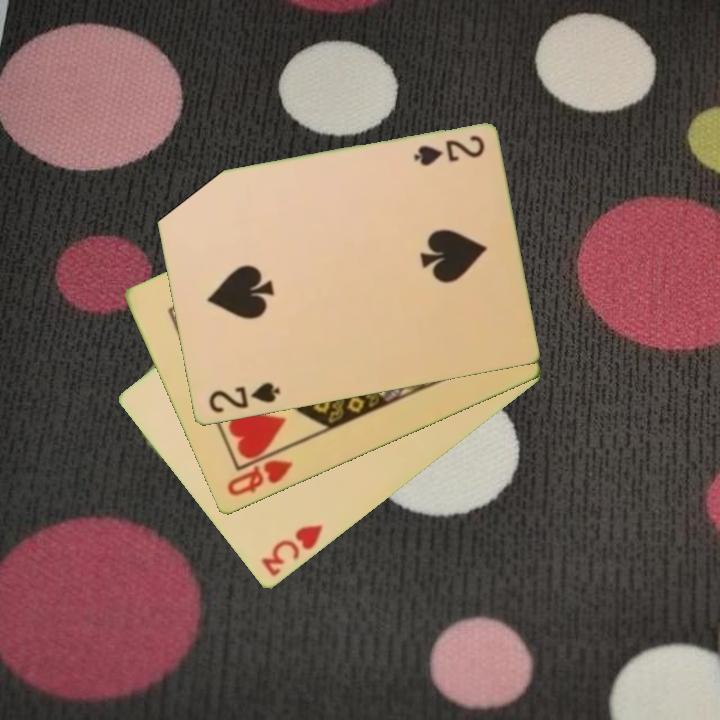2s: (205, 379, 283, 417), (410, 132, 488, 170)
3h: (257, 520, 326, 580)
Qh: (223, 456, 296, 500)
